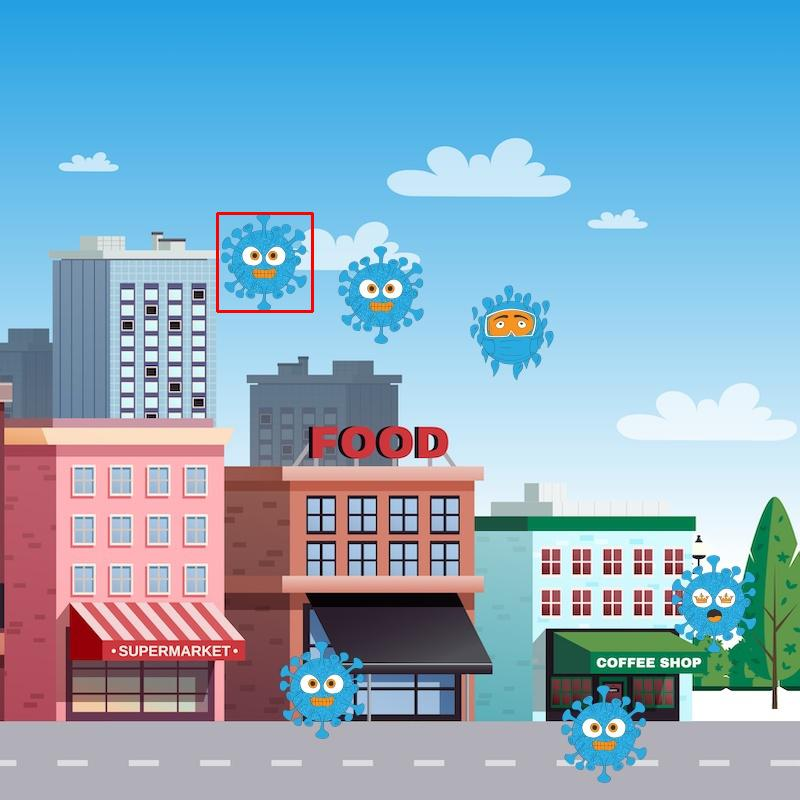corona1: (556, 685, 655, 786), (332, 240, 427, 344), (279, 636, 363, 744), (222, 216, 312, 307)
corona4: (669, 555, 759, 652)
doctor: (469, 283, 555, 378)
